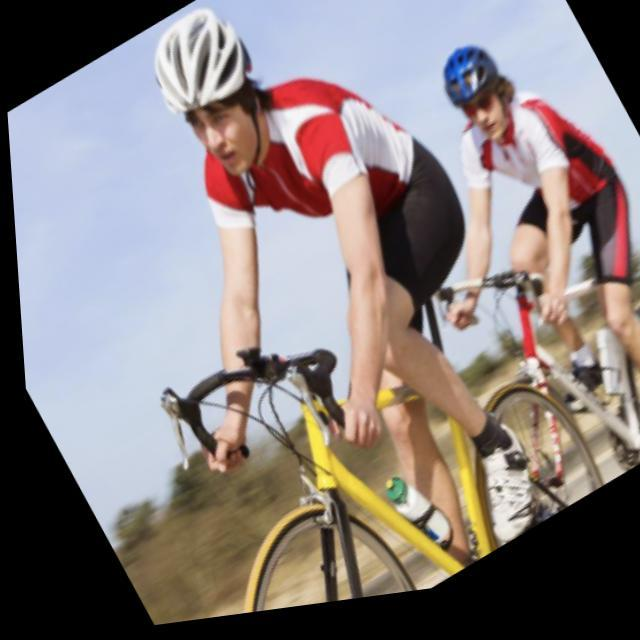Helmet: (134, 5, 288, 188), (431, 39, 534, 151)
